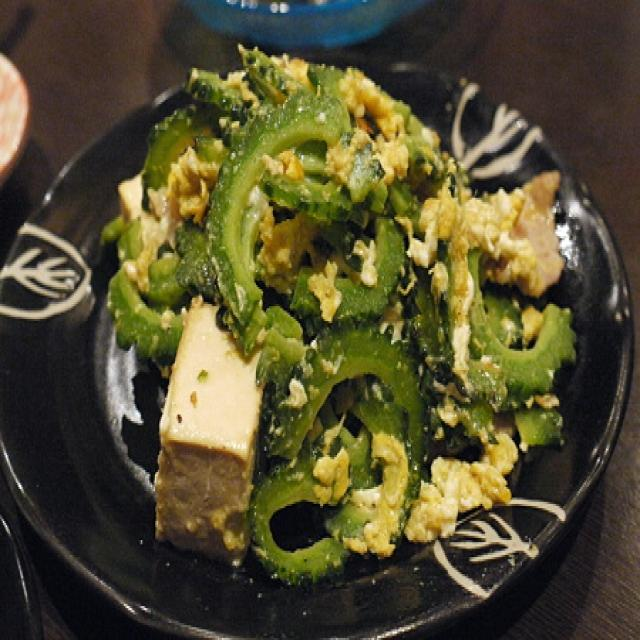熟制海鲜: (2, 38, 620, 568)
